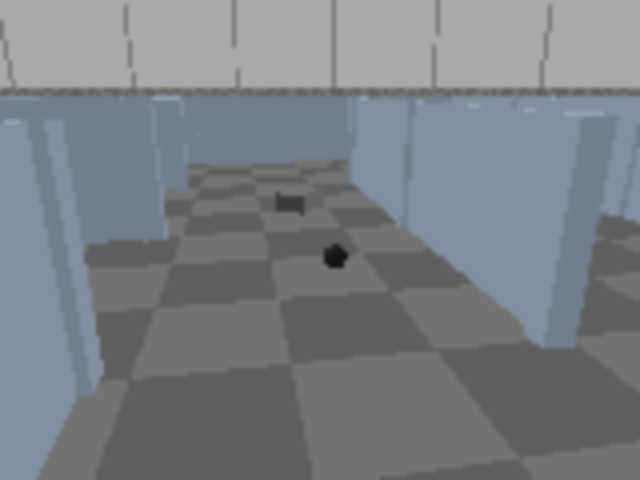puck: (320, 241, 350, 274)
